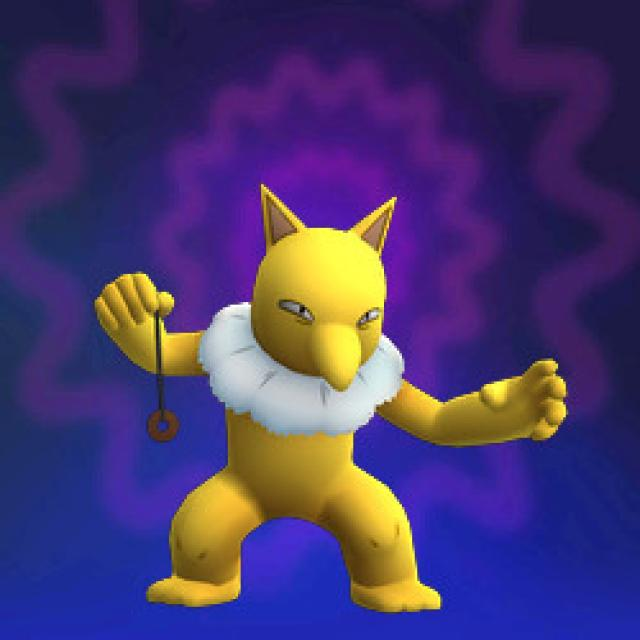Hypno: (155, 184, 451, 617)
